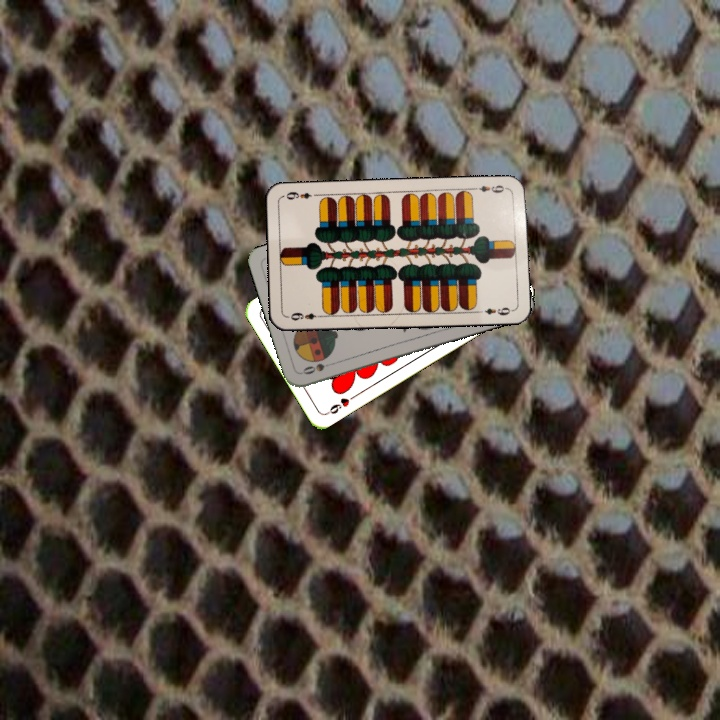E9: (469, 181, 510, 195), (287, 308, 325, 323)
H9: (322, 390, 359, 417)
SO: (298, 358, 338, 377)
